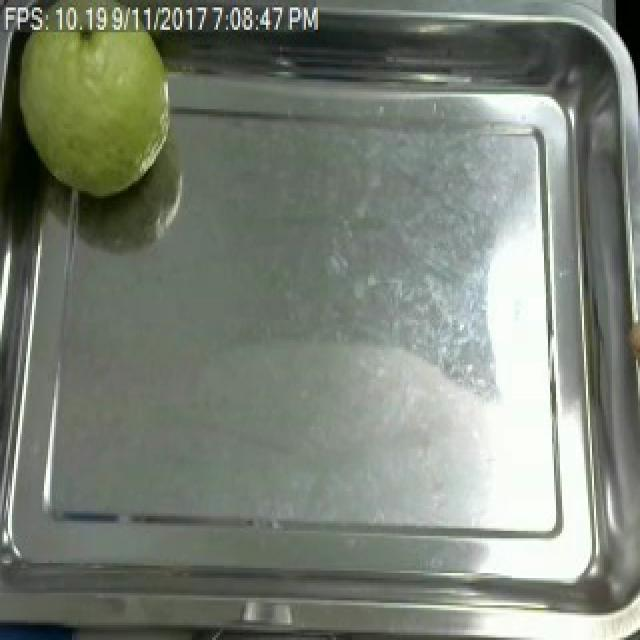Fruit: (2, 28, 186, 208)
